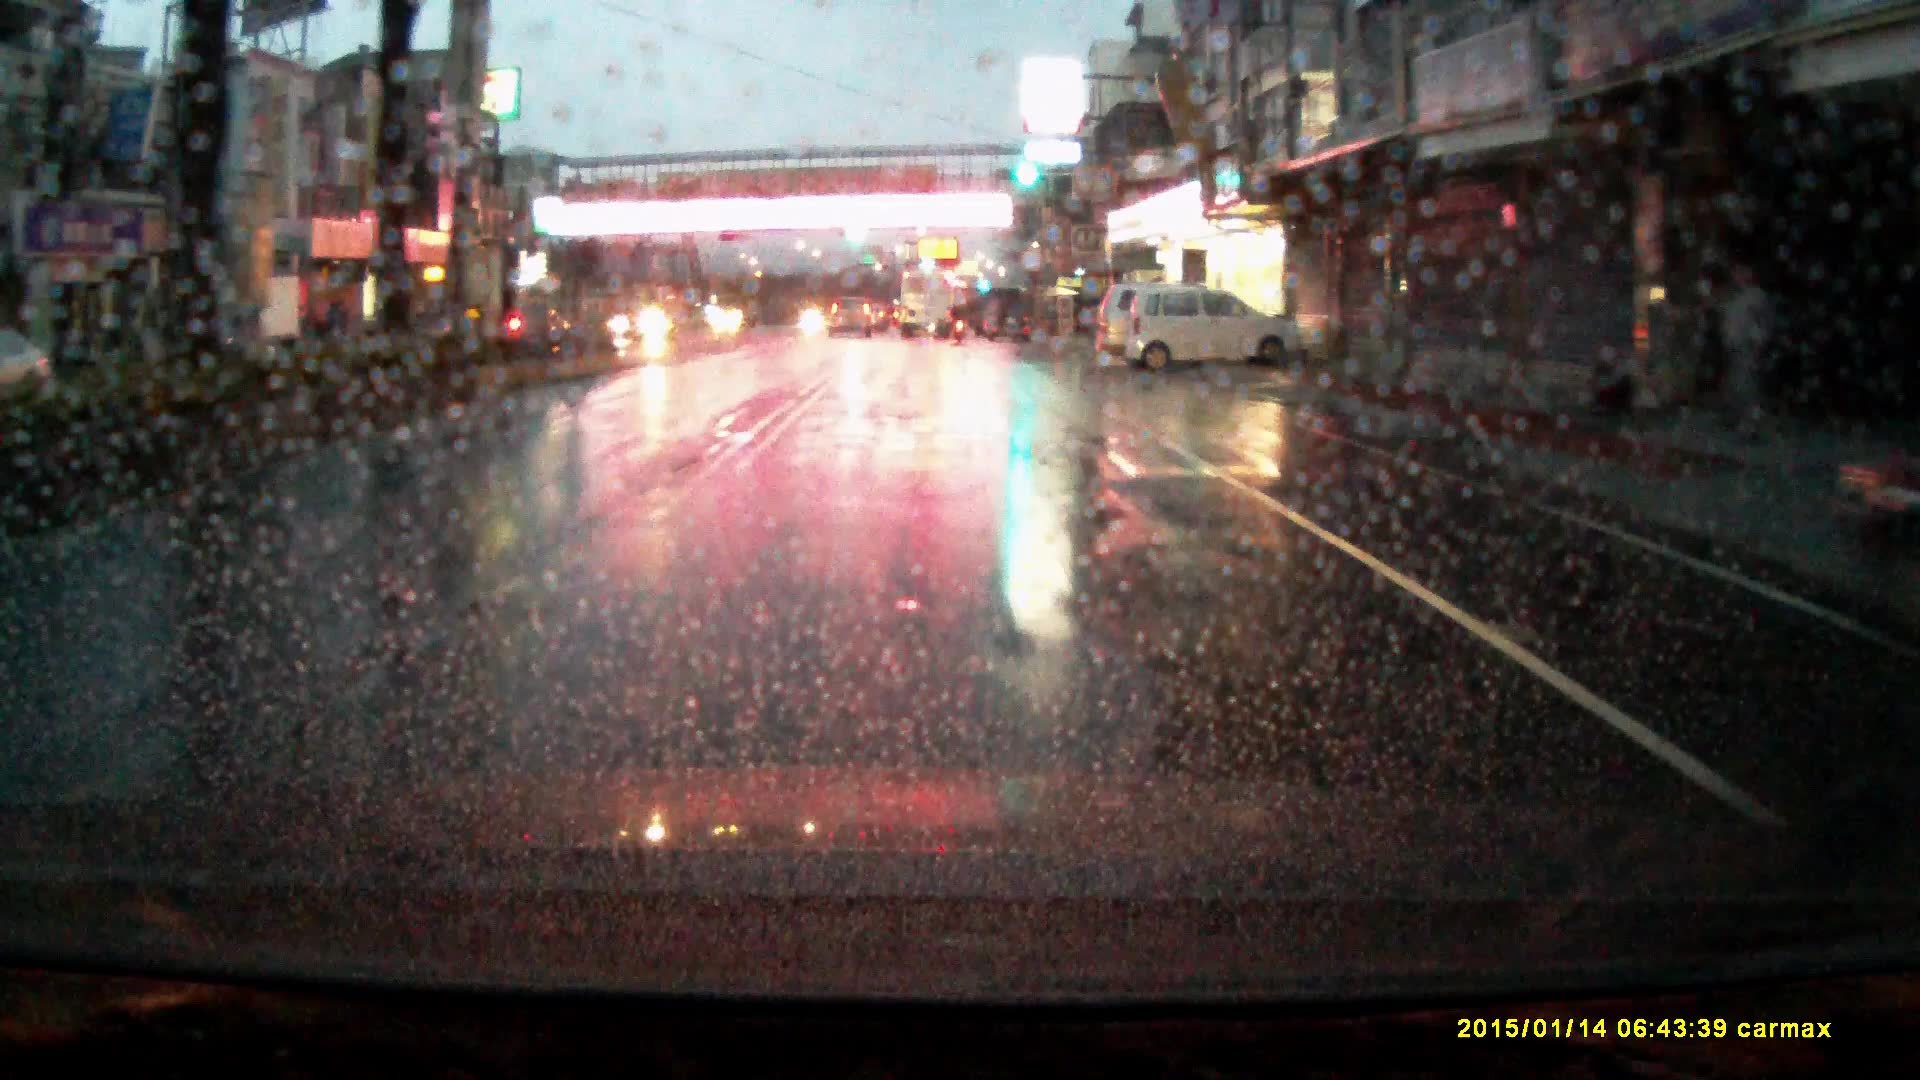rider: (951, 301, 971, 347)
vehicle: (1122, 286, 1301, 374), (177, 284, 289, 365), (1094, 288, 1199, 368), (610, 291, 687, 346), (1, 326, 57, 396), (900, 274, 950, 343), (982, 295, 1034, 346), (829, 300, 873, 345)
